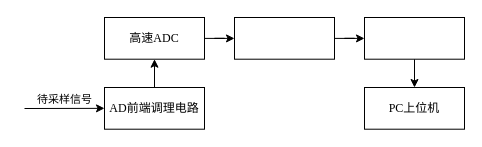
Some shapes in this 482 by 147 pixel diagram are drawn without their labels. Each missing label, with the centre of its shape:
"FPGA" goes at [284,37].
"FT232H 接口电路" goes at [414,37].
